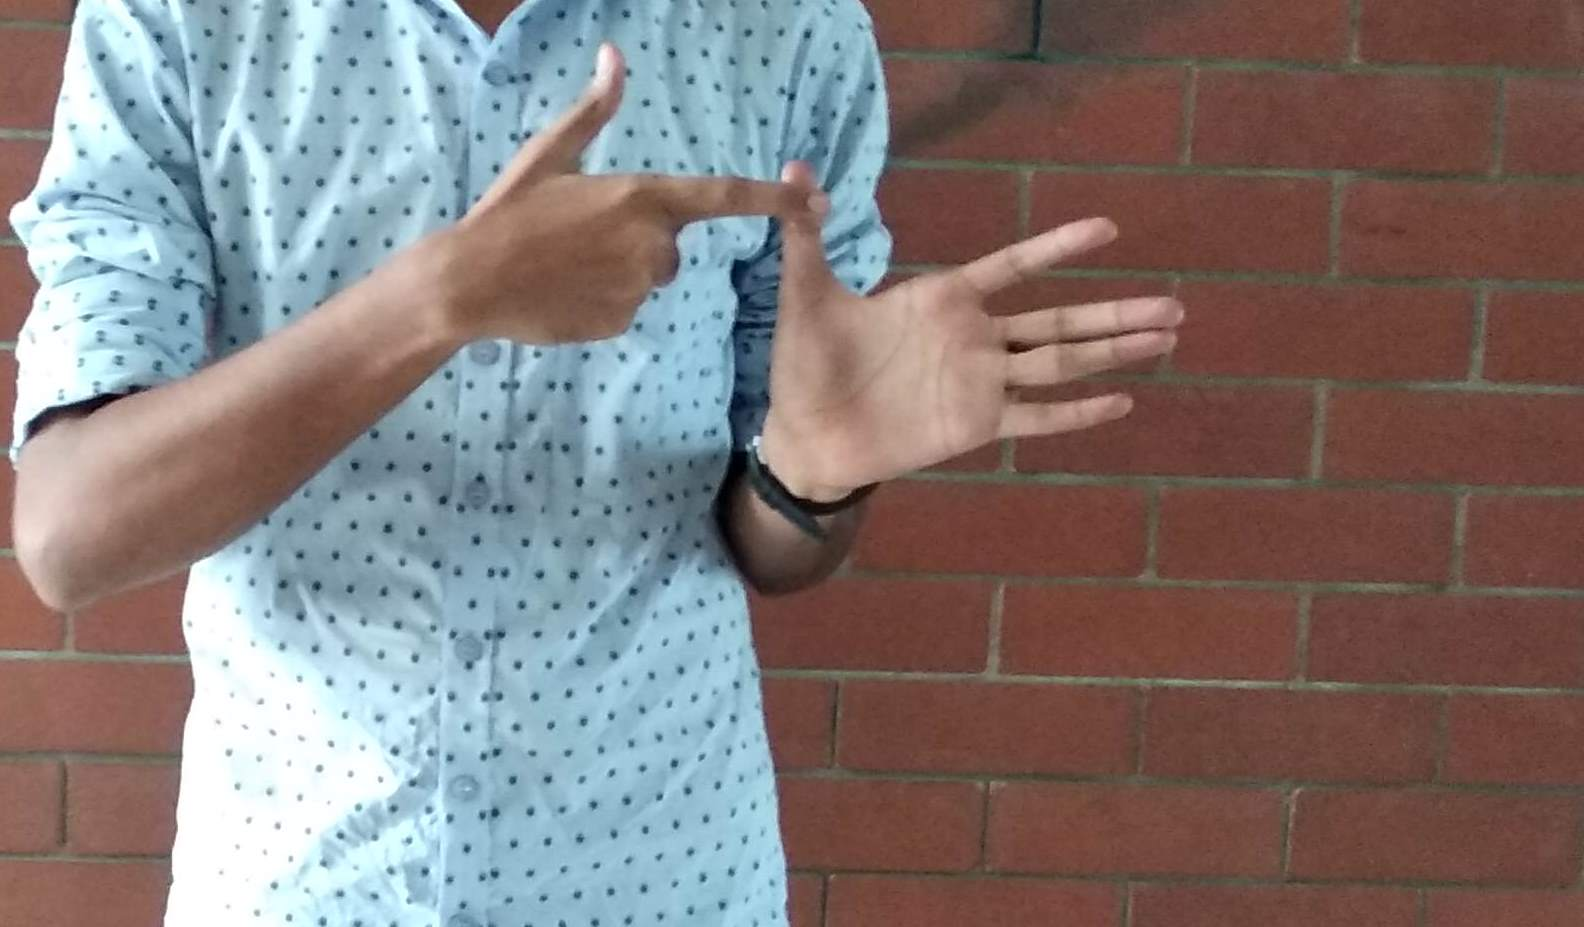a: (505, 60, 1189, 462)
